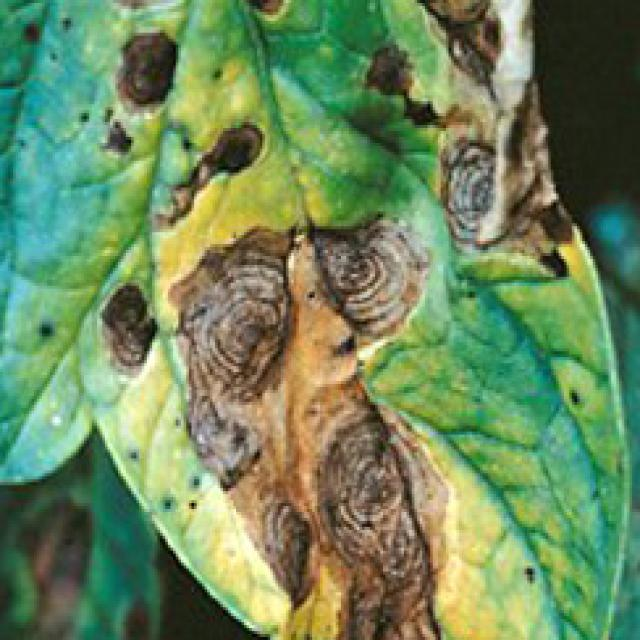earlyblight: (170, 220, 448, 638), (365, 3, 572, 276), (81, 282, 156, 404), (112, 1, 183, 106), (176, 130, 261, 195), (251, 0, 321, 33)
